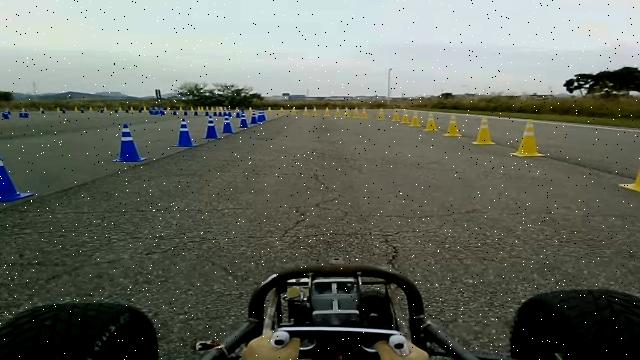blue cone: (0, 155, 34, 203), (111, 123, 147, 162), (171, 118, 197, 147), (201, 116, 221, 140), (220, 115, 236, 134), (238, 118, 249, 128)
yellow cone: (509, 119, 545, 157), (472, 116, 496, 145), (617, 164, 640, 192), (443, 114, 462, 136), (423, 113, 438, 131), (408, 113, 421, 127), (390, 108, 400, 121), (400, 112, 410, 124), (376, 107, 385, 120), (352, 107, 361, 118), (360, 108, 369, 118)
